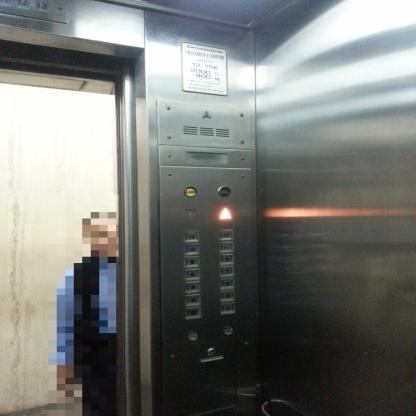10: (184, 243, 200, 256)
11: (218, 242, 234, 254)
12: (184, 230, 199, 244)
13: (220, 229, 233, 241)
2: (184, 294, 200, 306)
3: (219, 289, 234, 302)
4: (184, 280, 200, 294)
5: (219, 277, 234, 290)
6: (184, 268, 200, 281)
7: (219, 266, 234, 277)
8: (184, 256, 200, 268)
9: (218, 254, 233, 265)
G: (185, 306, 201, 319)
blur: (219, 302, 235, 314)
keyhole: (207, 348, 215, 356)
text: (184, 186, 197, 198)
text_blur: (218, 185, 232, 198), (186, 330, 200, 341), (222, 324, 234, 336)
